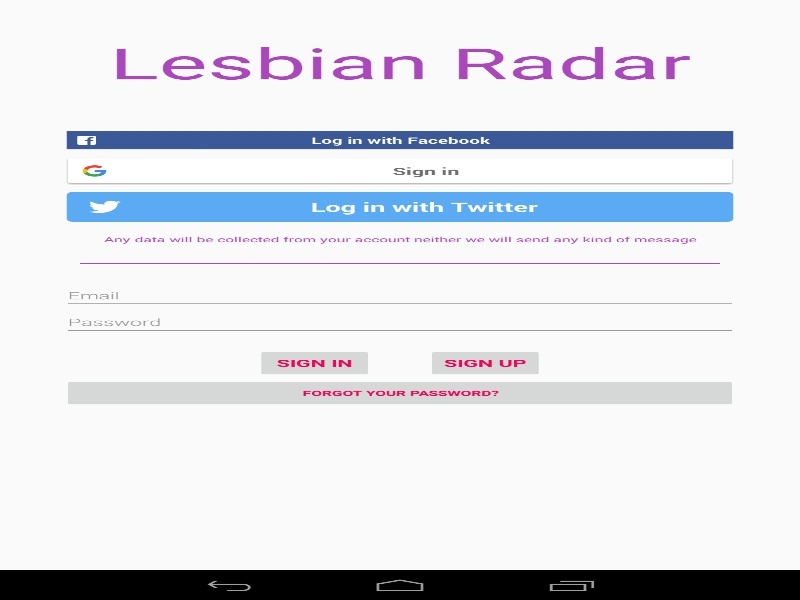Button: (62, 155, 737, 185), (62, 378, 737, 408), (66, 191, 733, 221), (66, 131, 733, 149), (426, 348, 544, 378), (256, 348, 373, 378)
Input: (62, 282, 737, 309), (62, 309, 737, 335)
